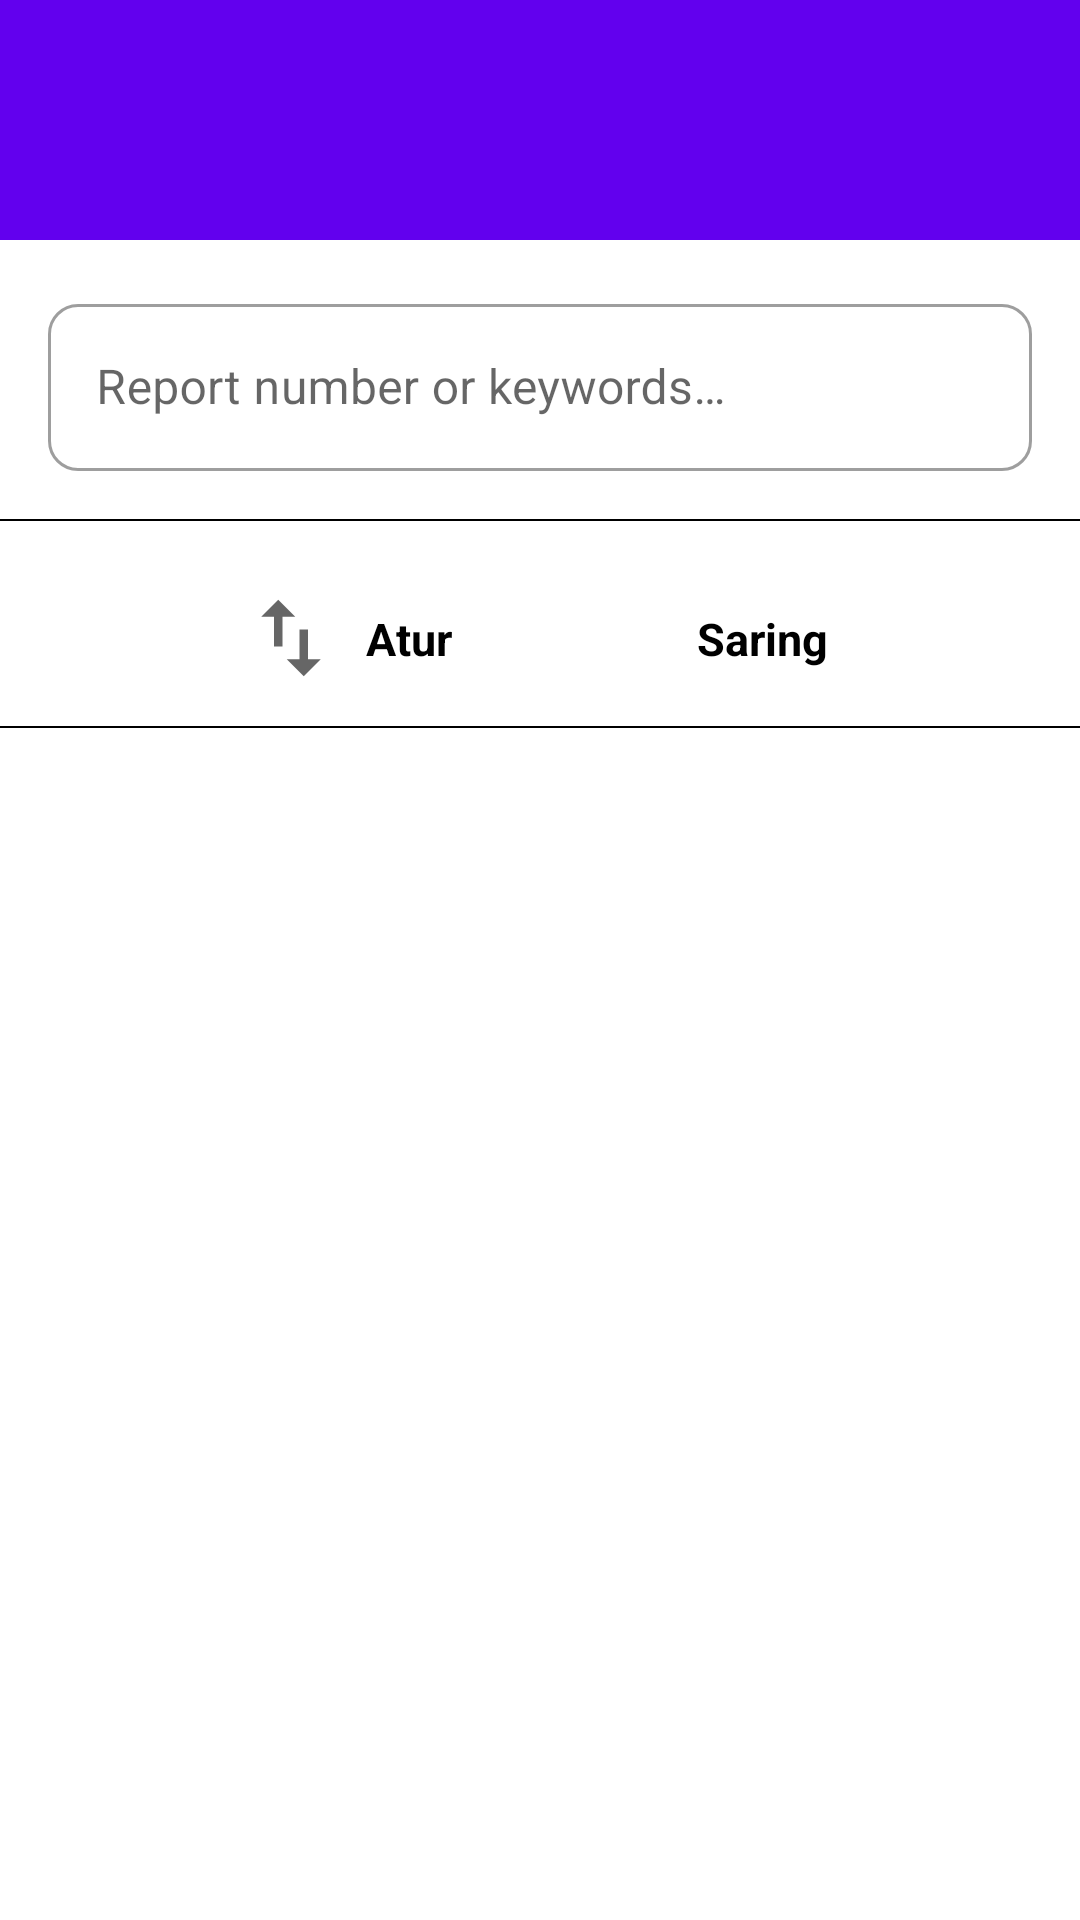

Icon click points for this 1080x1920 phone screenshot, format (x,y):
swap vert: (291,638)
